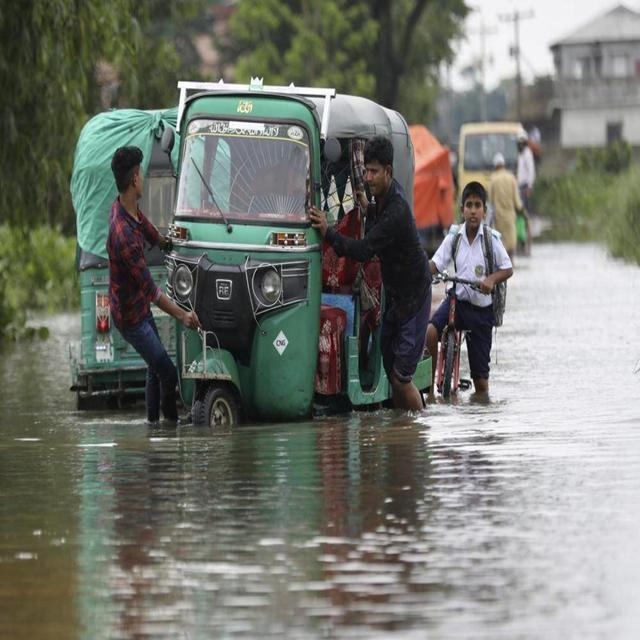Car-RiskLevel2: (157, 71, 445, 442)
Person-RiskLevel2: (308, 133, 435, 426), (99, 139, 197, 440), (426, 182, 513, 402)
